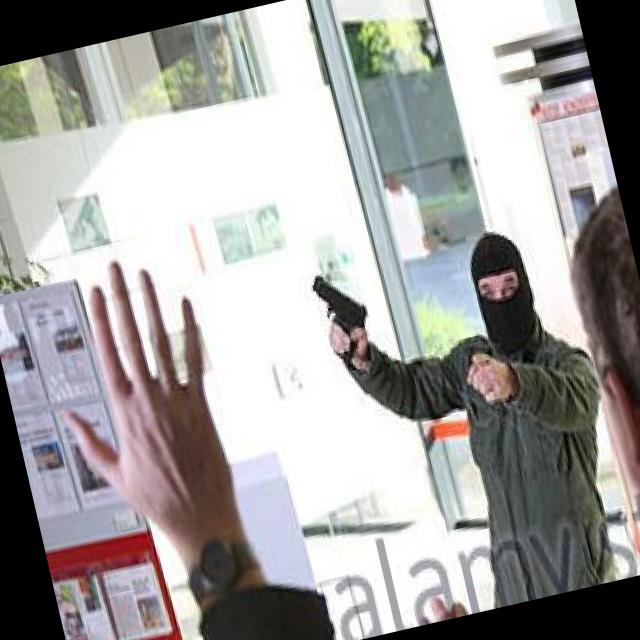Guns: (300, 254, 387, 375)
